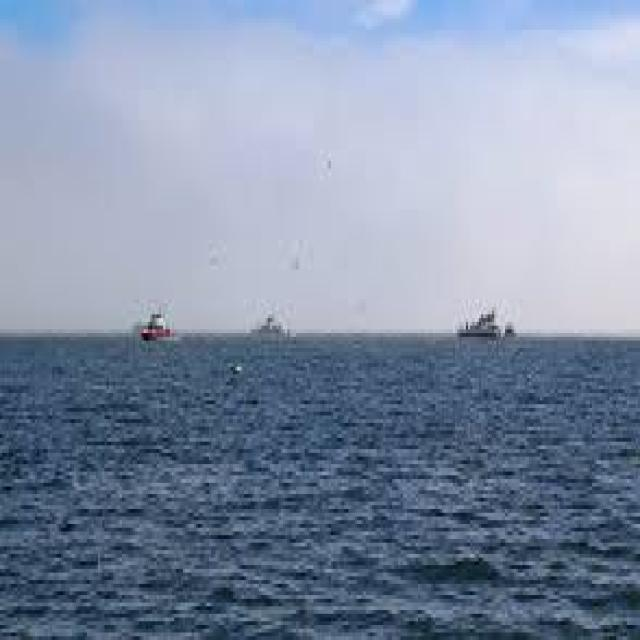fishing boat: (448, 280, 526, 362), (122, 292, 170, 354)
